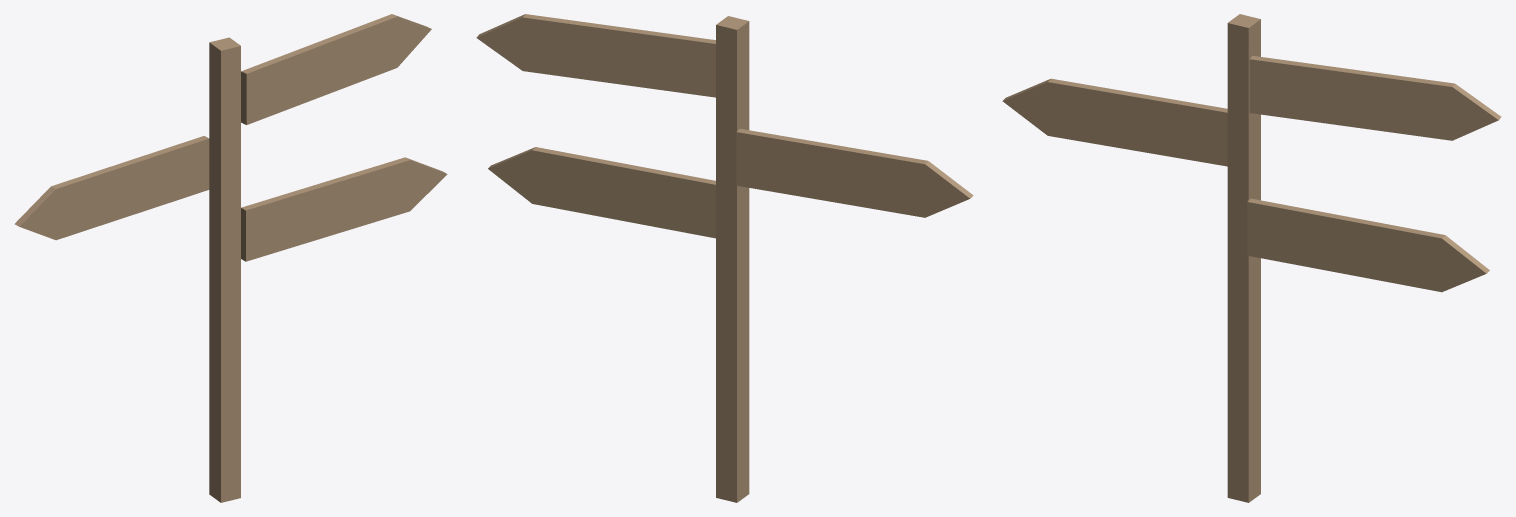
The model's file is signpost.glb.
3 renders of one model, left to right at view 1: azimuth 30°, elevation 25°; view 2: azimuth 150°, elevation 25°; view 3: azimuth 330°, elevation 25°, orthographic. The views are drawn at different scales.
Visible parts, largest first — view 1: Signpost; view 2: Signpost; view 3: Signpost.
Boxes of the visible parts, x1,y1,x2,y2 form: Signpost: (14, 14, 447, 502); Signpost: (476, 14, 973, 502); Signpost: (1002, 14, 1501, 502).
Size of the model in its own units: 3.09 by 3 by 0.41.
